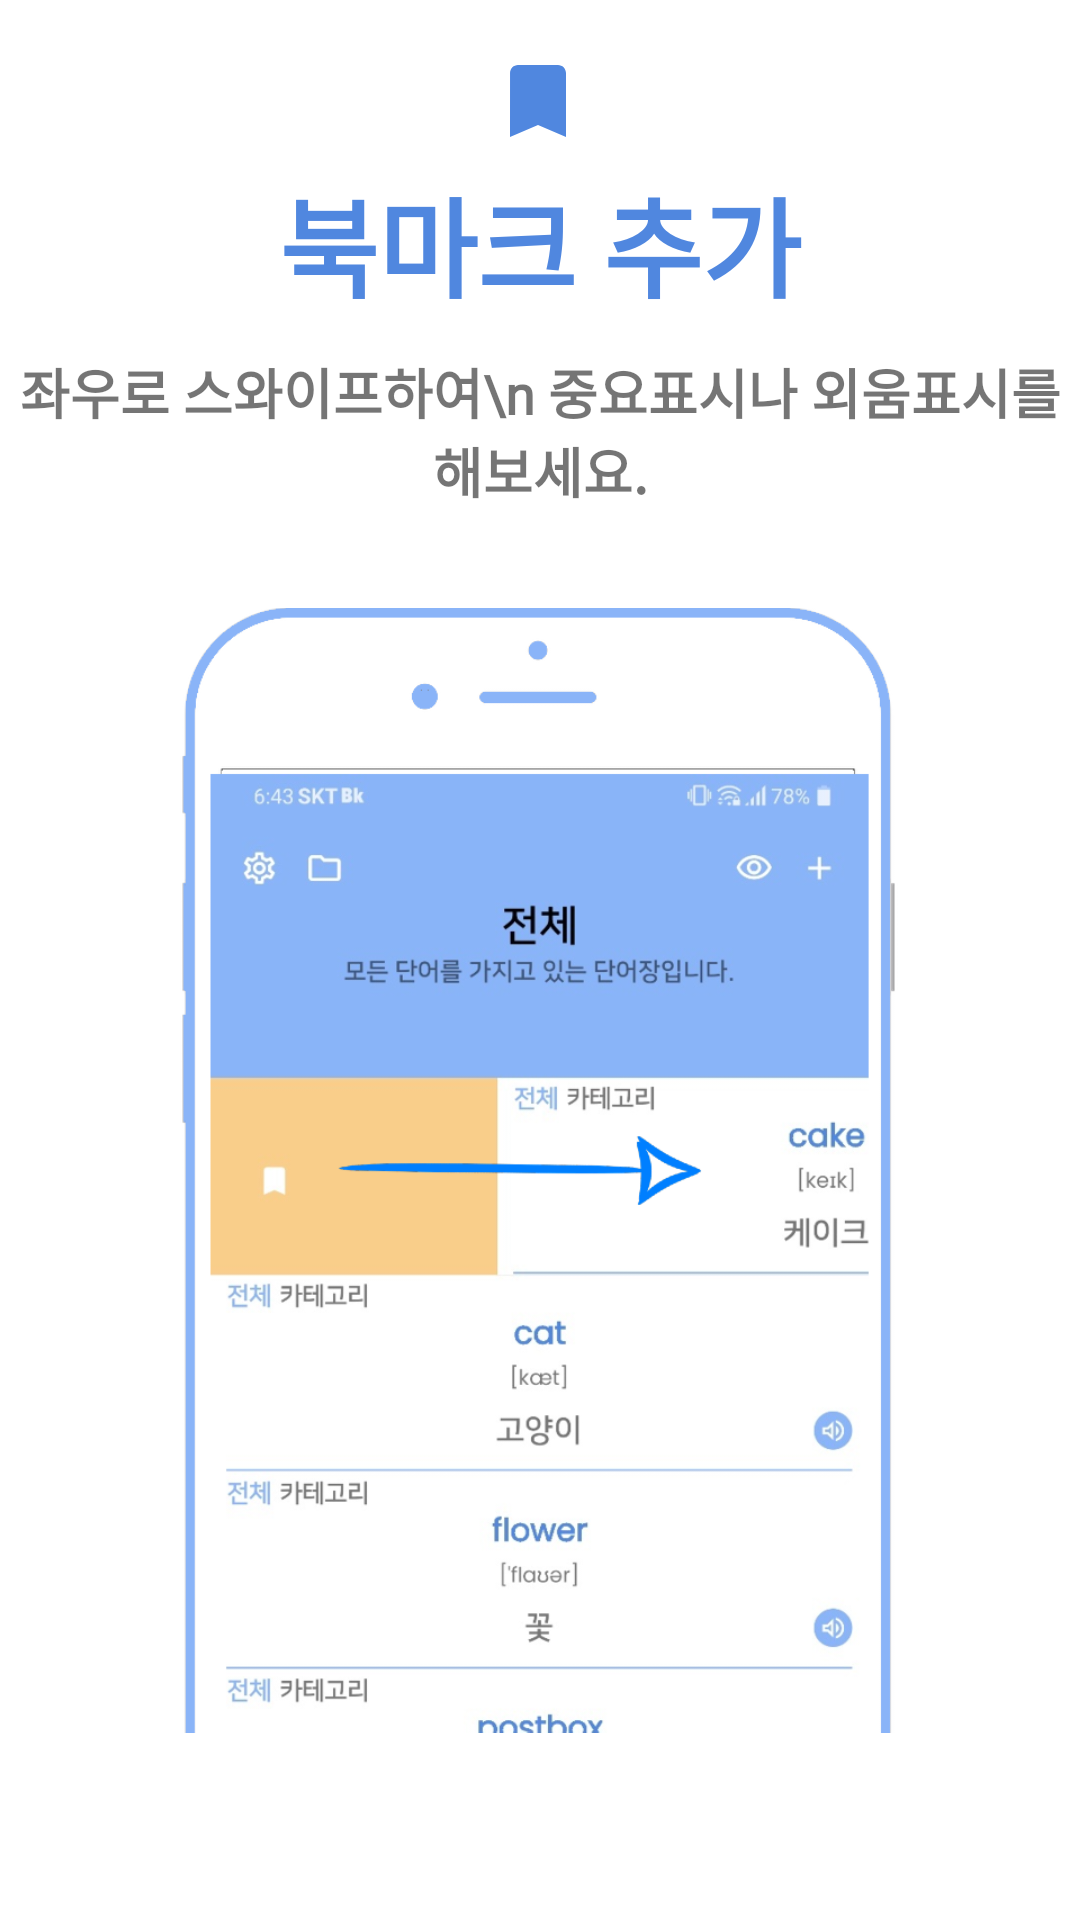

Named icons in this screenshot (1080×1920) and their centers, (x=x, y=y):
bookmark: (x=538, y=101)
